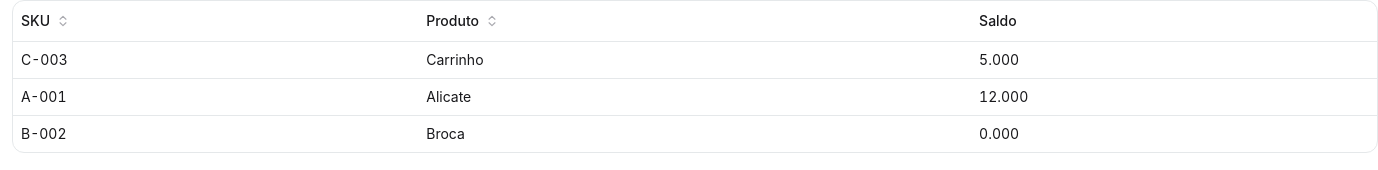
Test: DataTable › ordenação › ordena de forma crescente no primeiro clique e marca aria-sort
Click the button "SKU": (46, 21) [13,7,78,35]
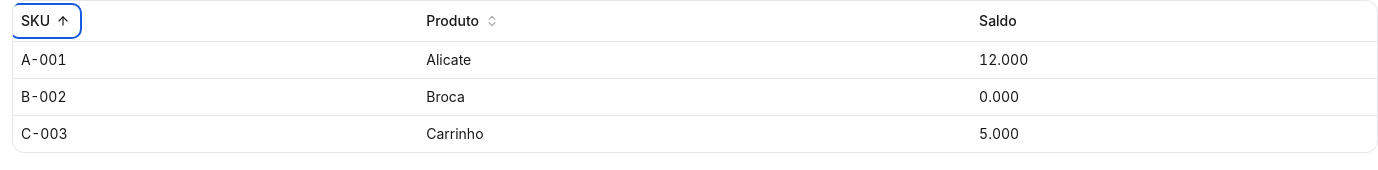
Expected: the text "A-001" is shown, [13,42,418,78]
Expected: the column heading "SKU" has attribute aria-sort="ascending", [13,1,418,41]
